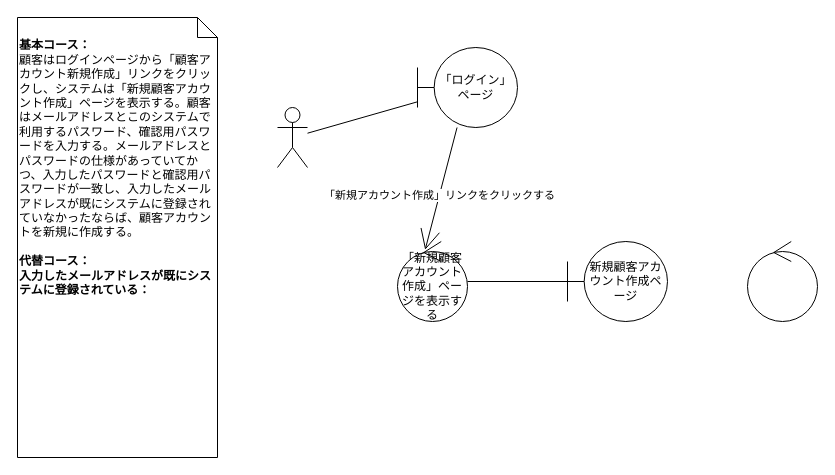
The diagram is 835 pixels wide and 475 high, and some of its shapes have lost their labels. Each missing label, with the box of its shape:
「メールアドレス」を入力する: (746, 240, 818, 322)
ユーザー: (276, 106, 308, 168)
